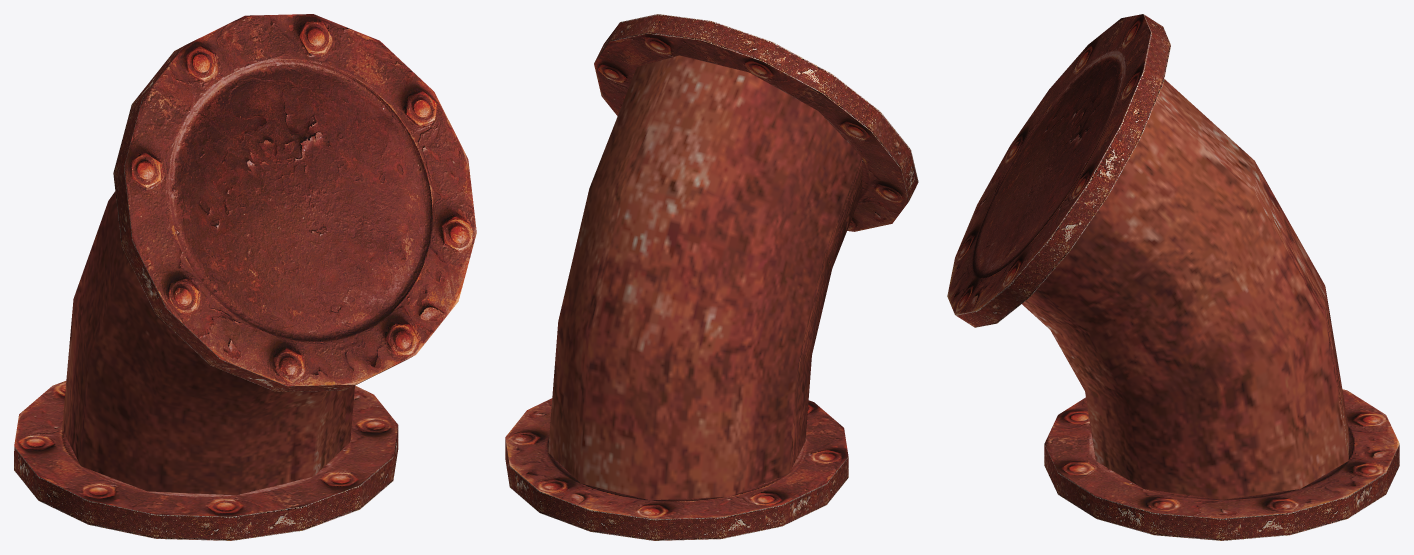
Rendered from elbow_55_red.DAE.
The picture shows the model from 3 angles, left to right: view 1: azimuth 30°, elevation 25°; view 2: azimuth 150°, elevation 25°; view 3: azimuth 270°, elevation 25°; orthographic projection. The views are drawn at different scales.
Parts seen in each view (by area): view 1: Object515, Torus036; view 2: Torus036, Object515; view 3: Torus036, Object515.
Part boxes in pixels (<box>): Object515: <box>14,14,476,540</box>; Torus036: <box>62,191,354,495</box>; Torus036: <box>548,55,862,500</box>; Object515: <box>505,14,918,540</box>; Torus036: <box>1022,79,1348,499</box>; Object515: <box>947,14,1399,540</box>.
Size of the model in its own units: 0.6566 by 0.8362 by 0.8835.
